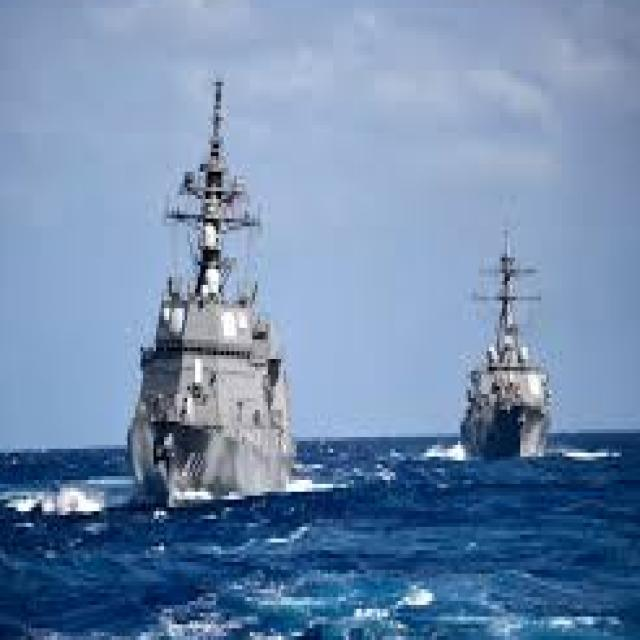navalvessels: (86, 72, 324, 503), (440, 244, 573, 462)
